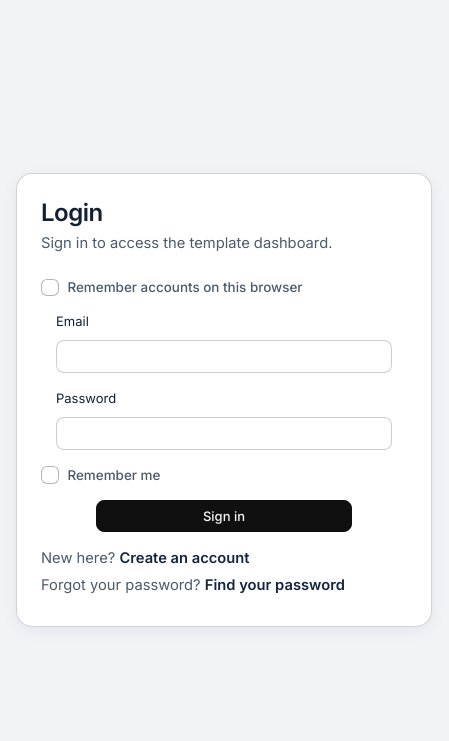
Test: LoginPage › shows resend verification action on EMAIL_NOT_VERIFIED and handles resend
Note: login is attempted and resend action is clicked.
Type "seeded-primary@example.com" into the field labelled "Email" at {"x": 224, "y": 356}, box x1=56 y1=340 x2=392 y2=373
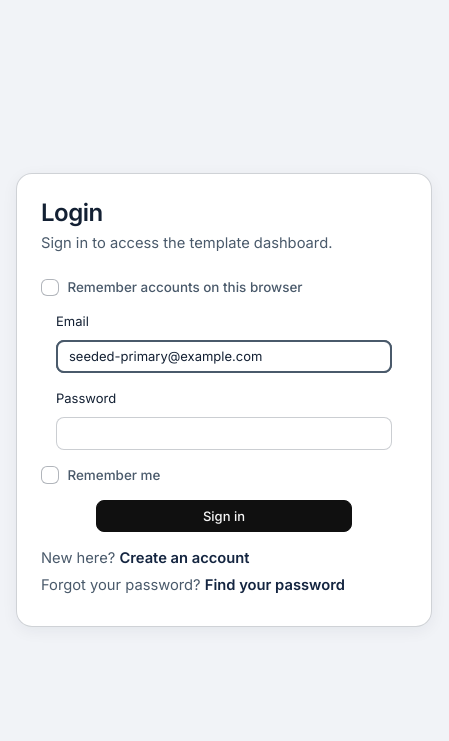
Type "SeededPass1!" into the password field labelled "Password" at {"x": 224, "y": 433}, box x1=56 y1=417 x2=392 y2=450
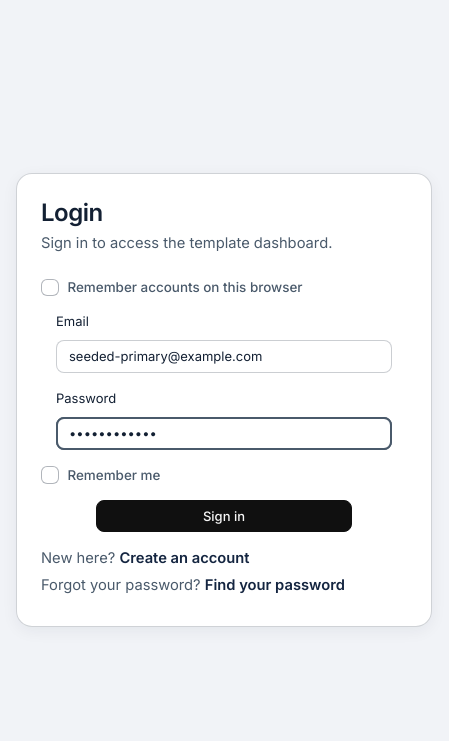
Click the button "Sign in" at {"x": 224, "y": 516}, box x1=96 y1=500 x2=352 y2=532
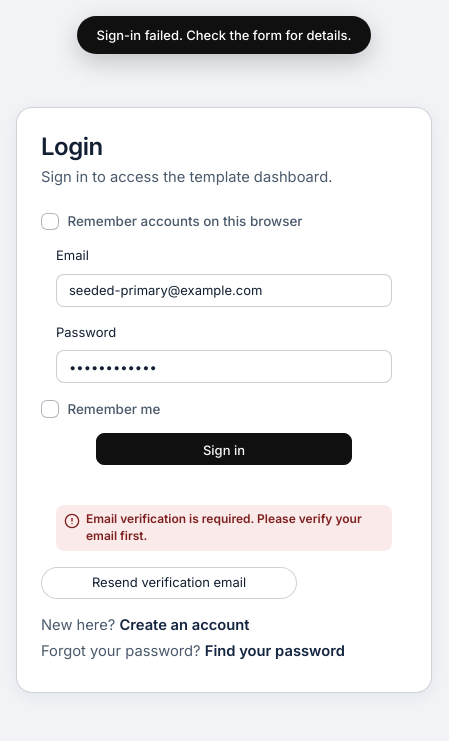
Click the button "Resend verification email" at {"x": 169, "y": 582}, box x1=41 y1=566 x2=297 y2=598
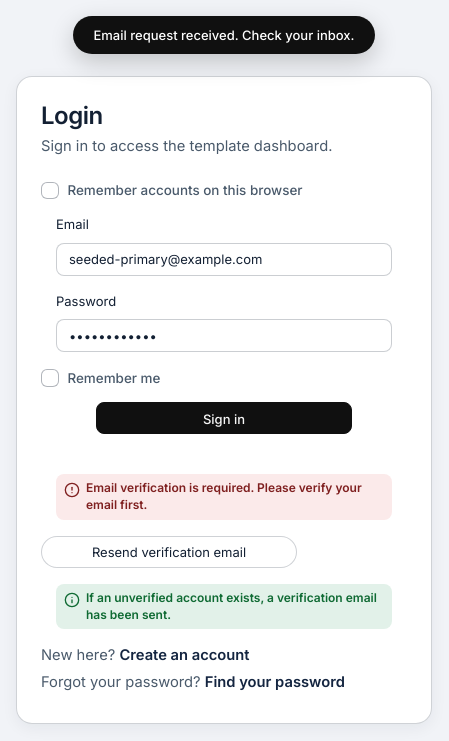
Expected: the text "If an unverified account exists, a verification email has been sent." is shown, x1=86 y1=590 x2=384 y2=623
